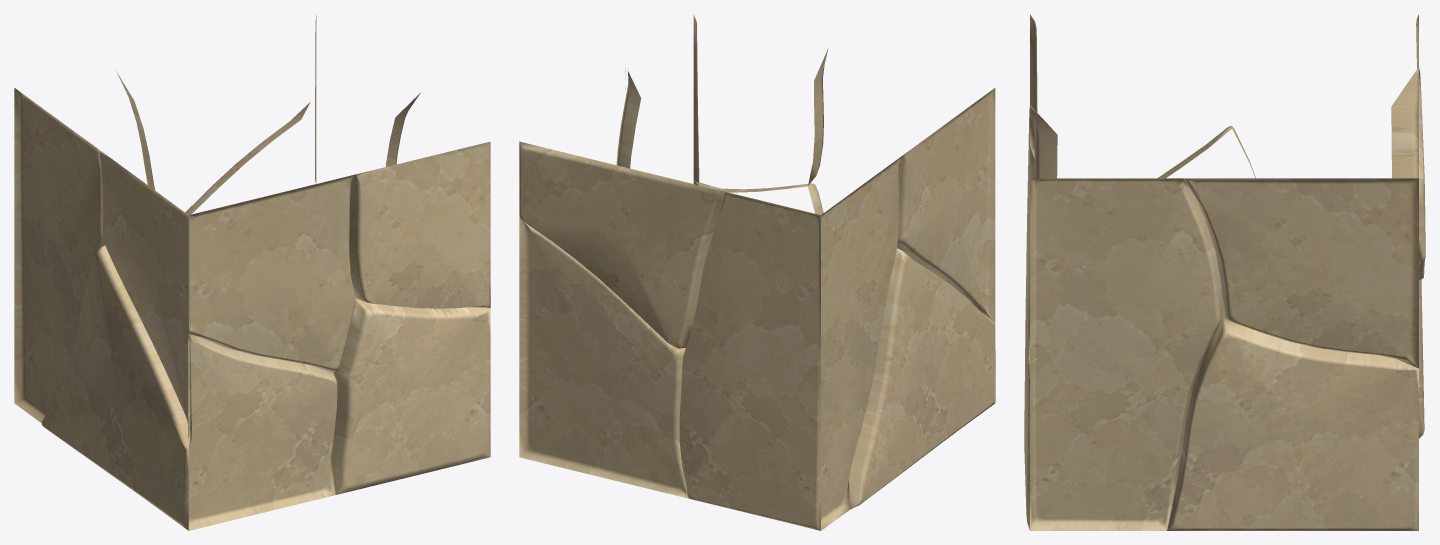
Rendered from GroundRock10.glb.
3 views of the same model, side by side, from view 1: azimuth 30°, elevation 25°; view 2: azimuth 150°, elevation 25°; view 3: azimuth 270°, elevation 25° (orthographic). The views are drawn at different scales.
Parts seen in each view (by area): view 1: ground_rock_10; view 2: ground_rock_10; view 3: ground_rock_10.
Part boxes in pixels (<box>): ground_rock_10: <box>14,15,490,530</box>; ground_rock_10: <box>519,15,995,530</box>; ground_rock_10: <box>1024,14,1425,530</box>.
Bounding box in the file's own units: 1.03 × 1 × 1.03.
Materials: 14 (14 with a texture image).
